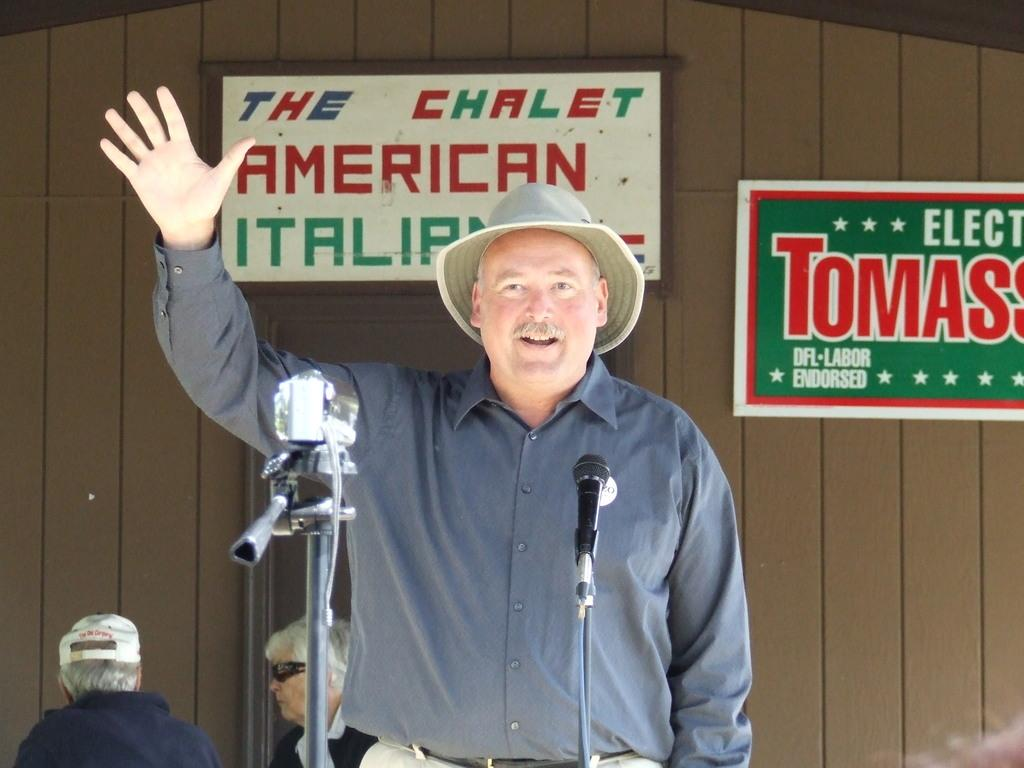Hat: (436, 182, 644, 356), (56, 608, 140, 661)
